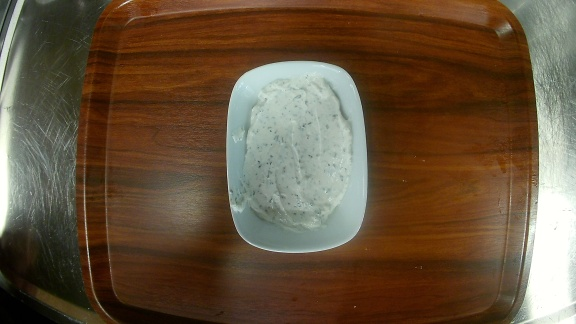haydari: (226, 60, 368, 253)
